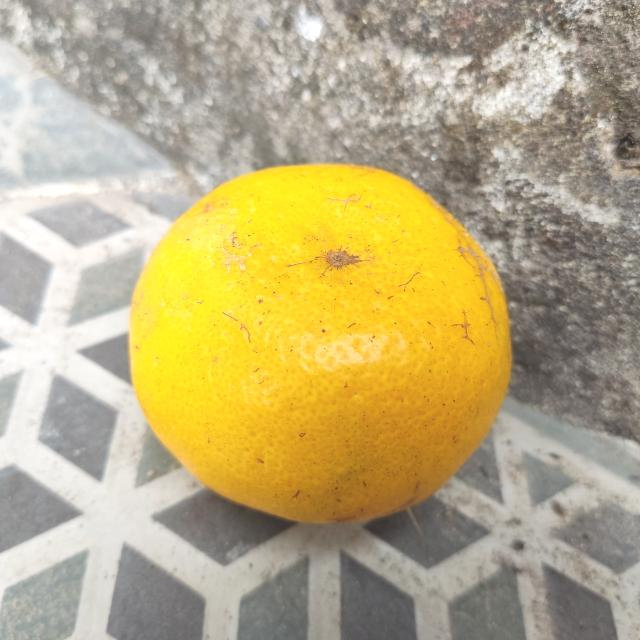orange: (126, 160, 514, 530)
